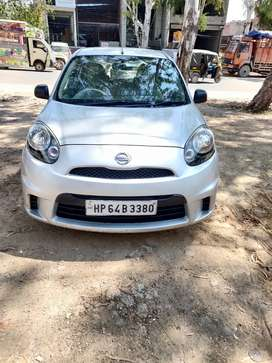HP64B3380: (85, 198, 157, 215)
